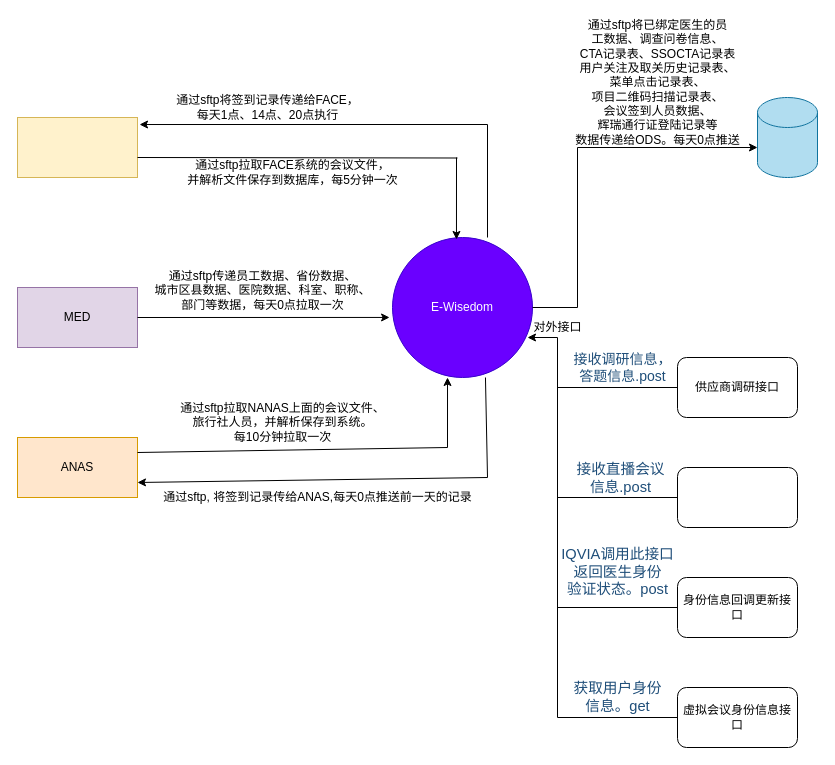
The diagram is 835 pixels wide and 765 high, and some of its shapes have lost their labels. The box of each missing label's shape, as (x1, y1, x2, y2) in pixels:
FACE: (16, 116, 138, 178)
HCP Calendar 直播会议接口: (676, 466, 798, 528)
ODS: (756, 96, 818, 178)
